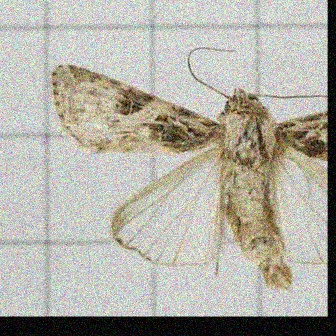Spodoptera litura: (49, 47, 327, 291)
